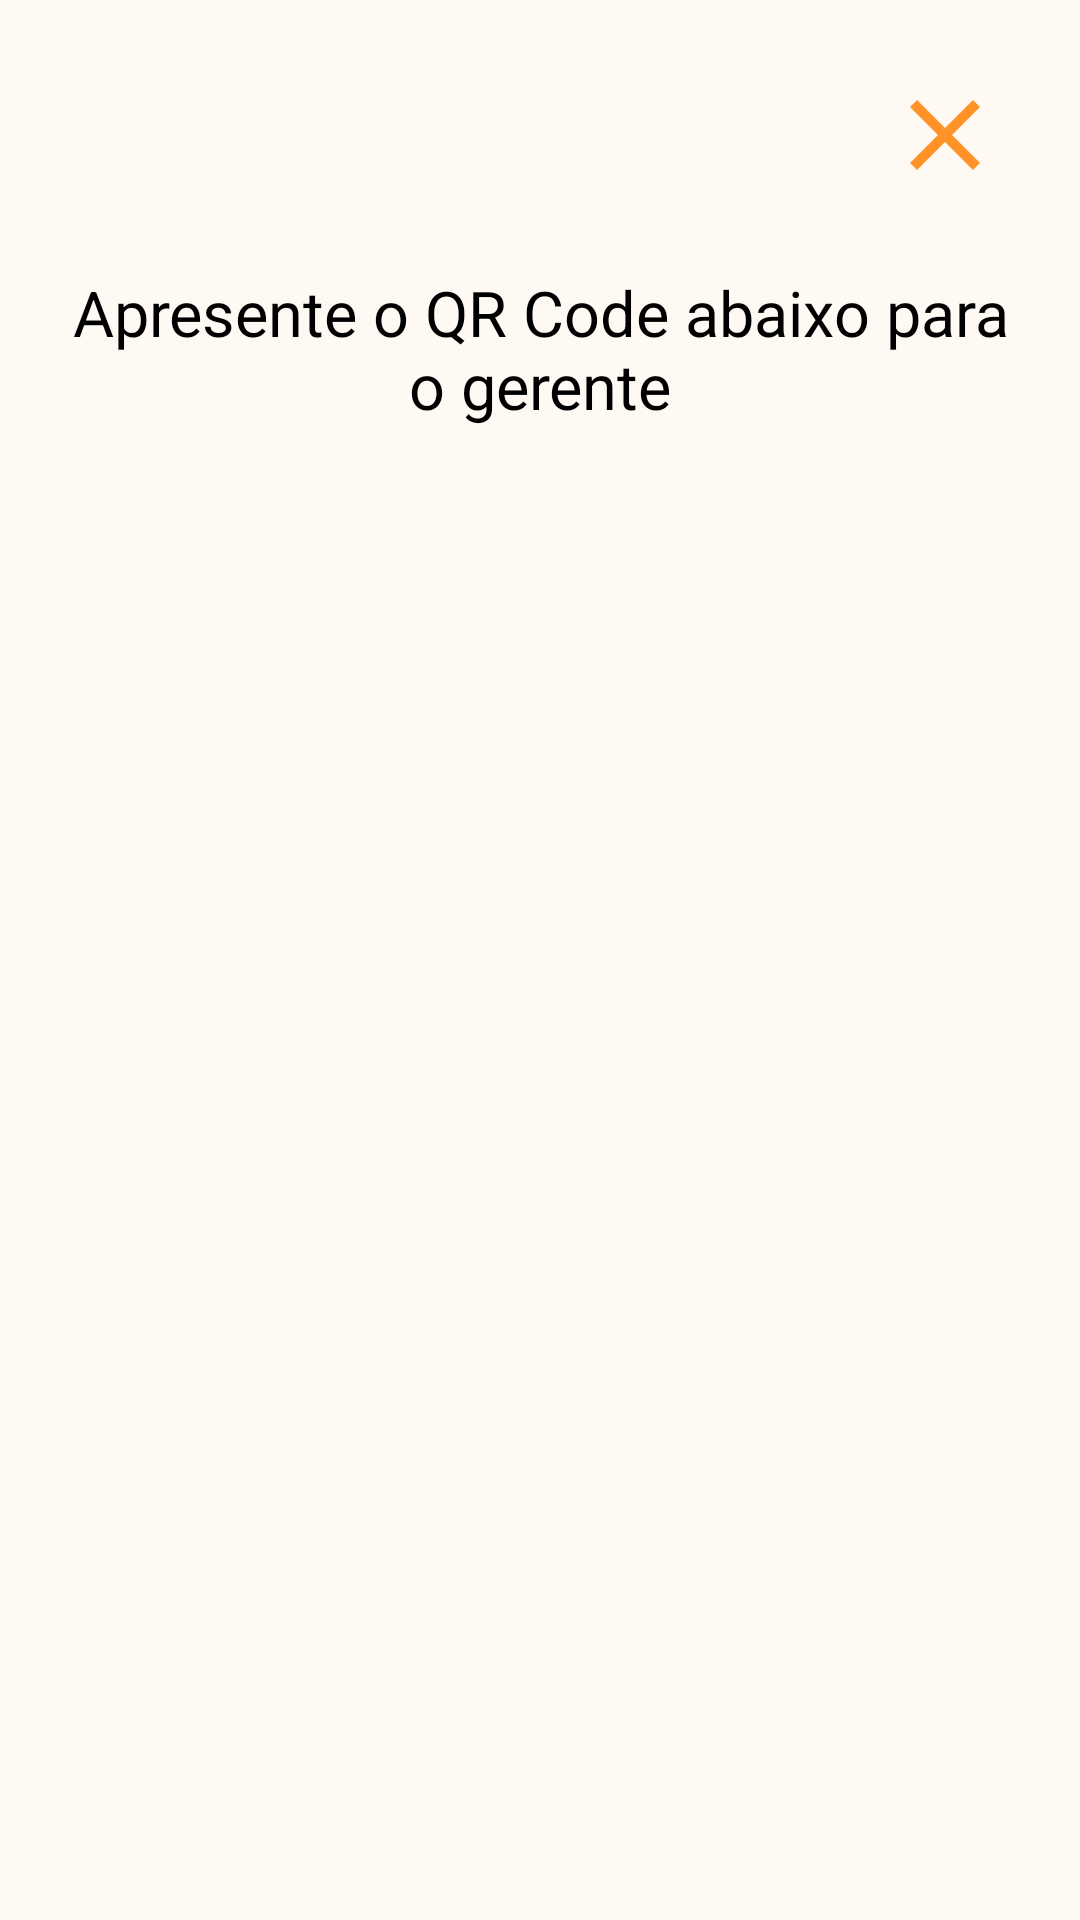

Where icons sit on this 1080*1920 app screen, as (x1, y1, x2, y2):
close: (910, 100, 980, 170)
